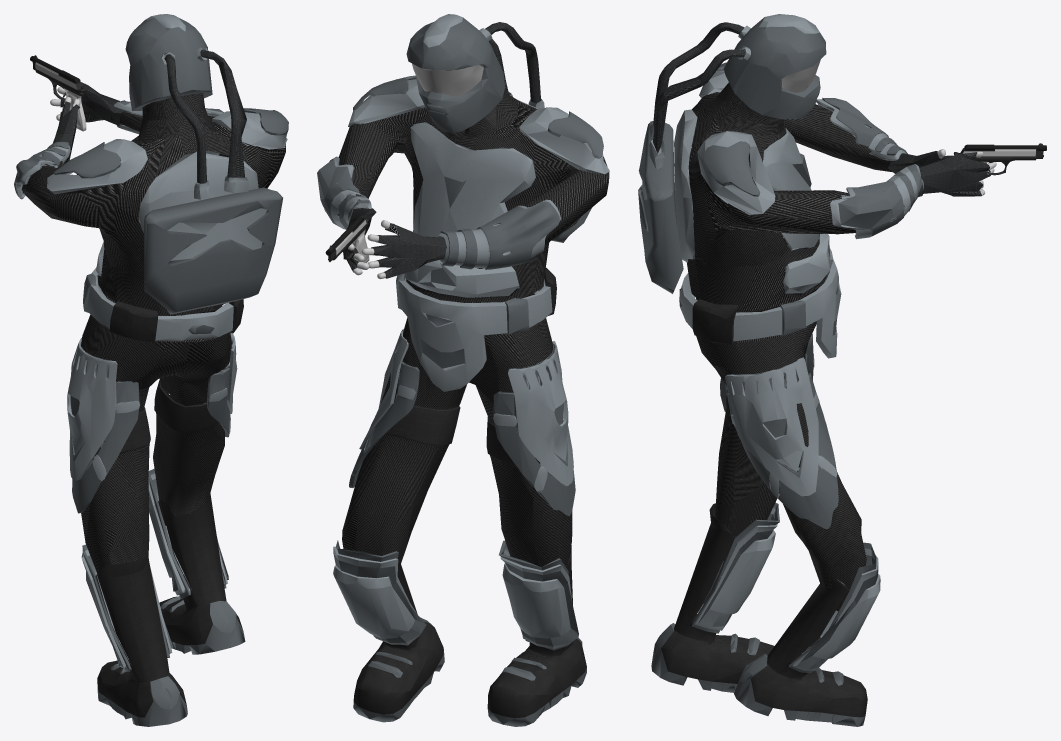
3 renders of one model, left to right at view 1: azimuth 30°, elevation 25°; view 2: azimuth 150°, elevation 25°; view 3: azimuth 270°, elevation 25°, orthographic. The views are drawn at different scales.
Visible parts, largest first — view 1: personajeskefix:personaje:extrudedSurface2 polySurface32, personajeskefix:personaje:PANTALON polySurface32, personajeskefix:personaje:bota1 polySurface32, personajeskefix:personaje:CAMISETABUENA polySurface32, personajeskefix:personaje:pPipe4 polySurface32, personajeskefix:personaje:pCube4 polySurface32, personajeskefix:personaje:cosoarmdaurapierna1 polySurface32, personajeskefix:personaje:cinturon polySurface32, personajeskefix:personaje:polySurface6 polySurface32, personajeskefix:personaje:armadbota1 polySurface32, personajeskefix:personaje:HOMBRO2 polySurface32, personajeskefix:personaje:polySurface11 polySurface32 (+5 smaller); view 2: personajeskefix:personaje:pPipe4 polySurface32, personajeskefix:personaje:PANTALON polySurface32, personajeskefix:personaje:CAMISETABUENA polySurface32, personajeskefix:personaje:bota1 polySurface32, personajeskefix:personaje:cinturon polySurface32, personajeskefix:personaje:armadbota1 polySurface32, personajeskefix:personaje:pCube4 polySurface32, personajeskefix:personaje:extrudedSurface2 polySurface32, personajeskefix:personaje:cosoarmdaurapierna1 polySurface32, personajeskefix:personaje:polySurface2 polySurface32, personajeskefix:personaje:polySurface6 polySurface32, personajeskefix:personaje:cosoarmadurapierna2 polySurface32 (+8 smaller); view 3: personajeskefix:personaje:CAMISETABUENA polySurface32, personajeskefix:personaje:bota1 polySurface32, personajeskefix:personaje:pPipe4 polySurface32, personajeskefix:personaje:extrudedSurface2 polySurface32, personajeskefix:personaje:pCube4 polySurface32, personajeskefix:personaje:PANTALON polySurface32, personajeskefix:personaje:cinturon polySurface32, personajeskefix:personaje:armadbota1 polySurface32, personajeskefix:personaje:cosoarmadurapierna2 polySurface32, personajeskefix:personaje:hombro1 polySurface32, personajeskefix:personaje:polySurface2 polySurface32, pistola:Cylinder001 polySurface32 (+3 smaller).
Boxes of the visible parts, x1,y1,x2,y2 form: personajeskefix:personaje:extrudedSurface2 polySurface32: [125, 14, 282, 314]; personajeskefix:personaje:PANTALON polySurface32: [81, 290, 231, 573]; personajeskefix:personaje:bota1 polySurface32: [97, 493, 245, 726]; personajeskefix:personaje:CAMISETABUENA polySurface32: [21, 93, 285, 342]; personajeskefix:personaje:pPipe4 polySurface32: [42, 82, 287, 274]; personajeskefix:personaje:pCube4 polySurface32: [70, 314, 237, 671]; personajeskefix:personaje:cosoarmdaurapierna1 polySurface32: [67, 338, 139, 481]; personajeskefix:personaje:cinturon polySurface32: [83, 267, 243, 342]; personajeskefix:personaje:polySurface6 polySurface32: [119, 380, 219, 453]; personajeskefix:personaje:armadbota1 polySurface32: [81, 473, 227, 668]; personajeskefix:personaje:HOMBRO2 polySurface32: [54, 142, 120, 178]; personajeskefix:personaje:polySurface11 polySurface32: [164, 54, 206, 183]; personajeskefix:personaje:pPipe4 polySurface32: [317, 79, 609, 297]; personajeskefix:personaje:PANTALON polySurface32: [342, 288, 572, 567]; personajeskefix:personaje:CAMISETABUENA polySurface32: [337, 68, 609, 328]; personajeskefix:personaje:bota1 polySurface32: [353, 545, 586, 726]; personajeskefix:personaje:cinturon polySurface32: [396, 267, 556, 391]; personajeskefix:personaje:armadbota1 polySurface32: [333, 546, 574, 648]; personajeskefix:personaje:pCube4 polySurface32: [333, 329, 578, 650]; personajeskefix:personaje:extrudedSurface2 polySurface32: [406, 14, 591, 242]; personajeskefix:personaje:cosoarmdaurapierna1 polySurface32: [493, 341, 573, 492]; personajeskefix:personaje:polySurface2 polySurface32: [440, 201, 559, 269]; personajeskefix:personaje:polySurface6 polySurface32: [386, 404, 515, 465]; personajeskefix:personaje:cosoarmadurapierna2 polySurface32: [349, 361, 419, 487]; personajeskefix:personaje:CAMISETABUENA polySurface32: [686, 82, 904, 342]; personajeskefix:personaje:bota1 polySurface32: [651, 503, 867, 726]; personajeskefix:personaje:pPipe4 polySurface32: [674, 69, 990, 293]; personajeskefix:personaje:extrudedSurface2 polySurface32: [638, 14, 826, 293]; personajeskefix:personaje:pCube4 polySurface32: [692, 333, 878, 672]; personajeskefix:personaje:PANTALON polySurface32: [696, 272, 866, 611]; personajeskefix:personaje:cinturon polySurface32: [679, 245, 841, 358]; personajeskefix:personaje:armadbota1 polySurface32: [695, 508, 880, 670]; personajeskefix:personaje:cosoarmadurapierna2 polySurface32: [726, 372, 838, 528]; personajeskefix:personaje:hombro1 polySurface32: [704, 141, 760, 196]; personajeskefix:personaje:polySurface2 polySurface32: [822, 97, 907, 155]; pistola:Cylinder001 polySurface32: [952, 143, 1046, 196].
Size of the model in its own units: 3.65 by 9.55 by 5.07.
